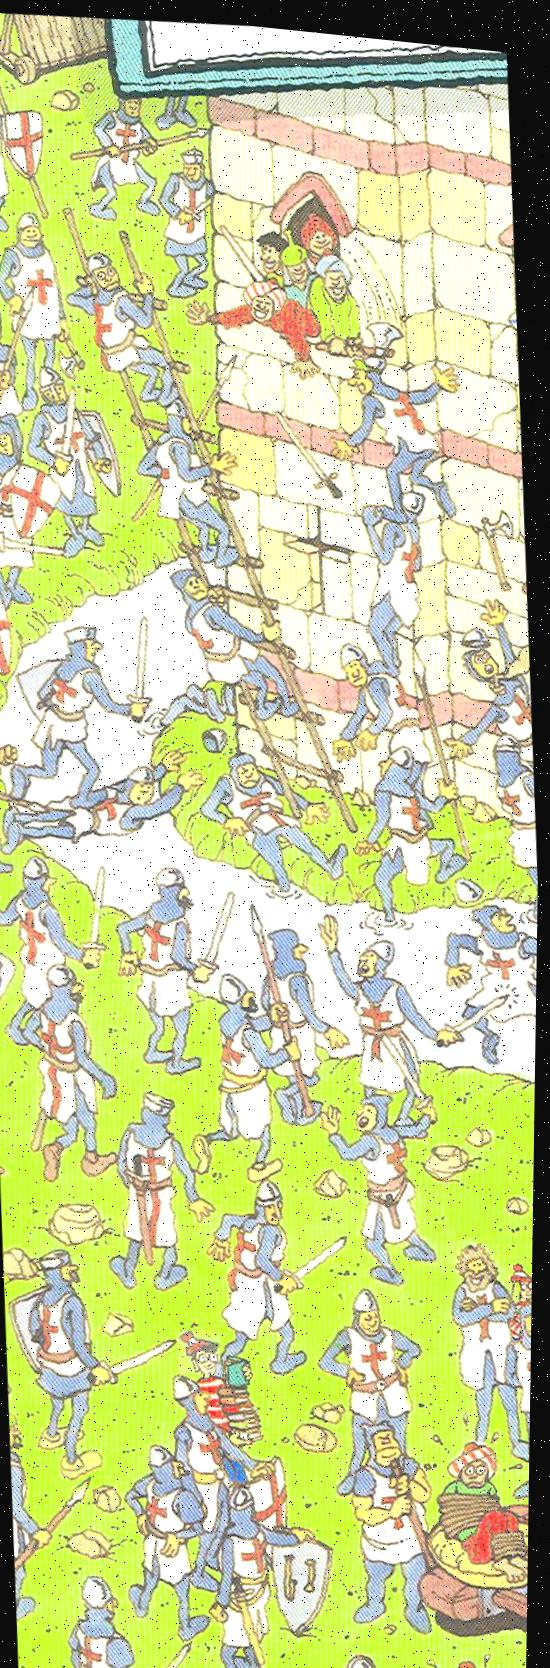waldo: (181, 1323, 226, 1372)
